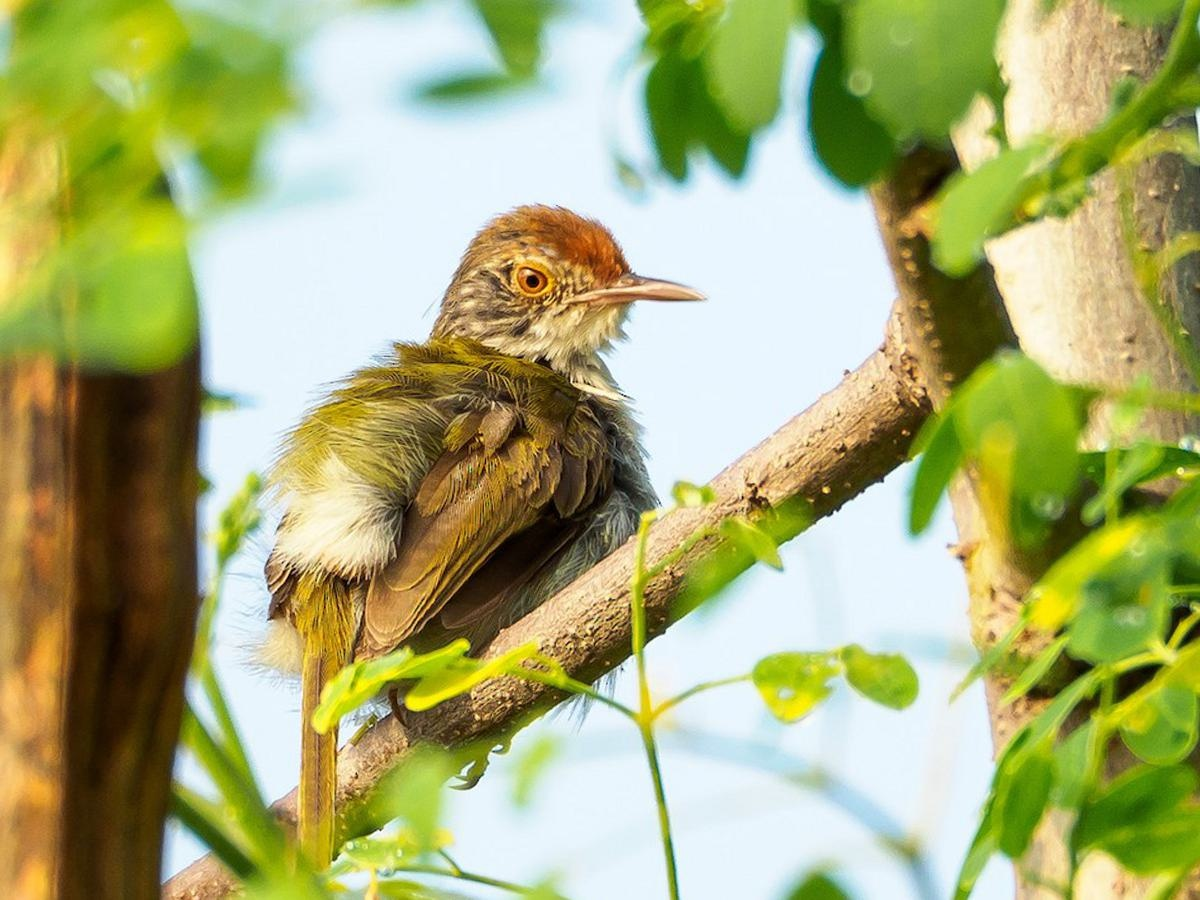tailorbird: (243, 187, 727, 771)
